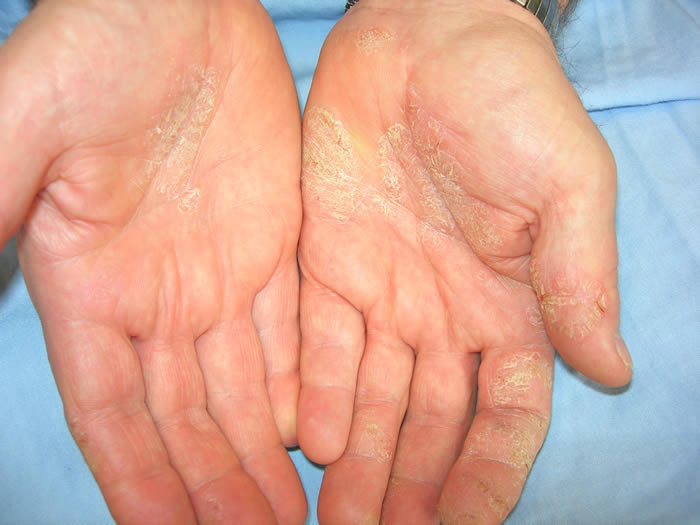Diseased: (95, 18, 640, 458)
